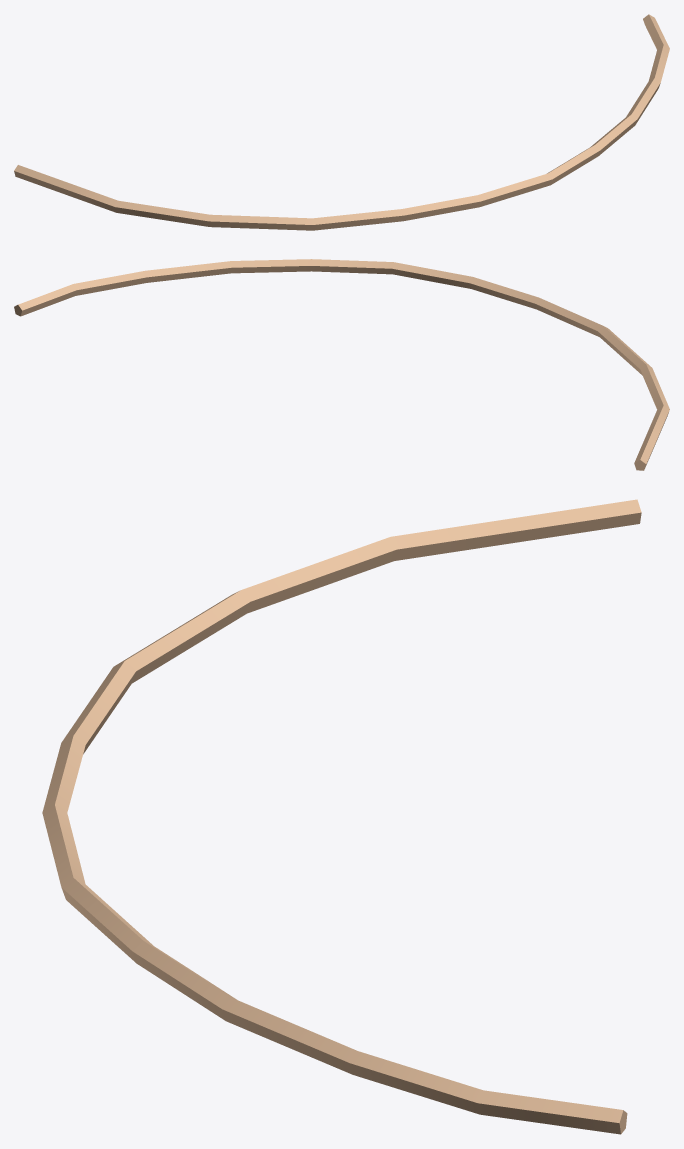
File: Rope_Dip.fbx
3 renders of one model, top to bottom at view 1: azimuth 30°, elevation 25°; view 2: azimuth 150°, elevation 25°; view 3: azimuth 270°, elevation 25°, orthographic. The views are drawn at different scales.
Visible parts, largest first — view 1: sweep2; view 2: sweep2; view 3: sweep2.
Boxes of the visible parts, <box> form: sweep2: <box>14,14,669,230</box>; sweep2: <box>14,259,669,470</box>; sweep2: <box>42,499,641,1134</box>.
Size of the model in its own units: 30.71 by 0.4943 by 12.54.
Materials: 1 (1 with a texture image).
